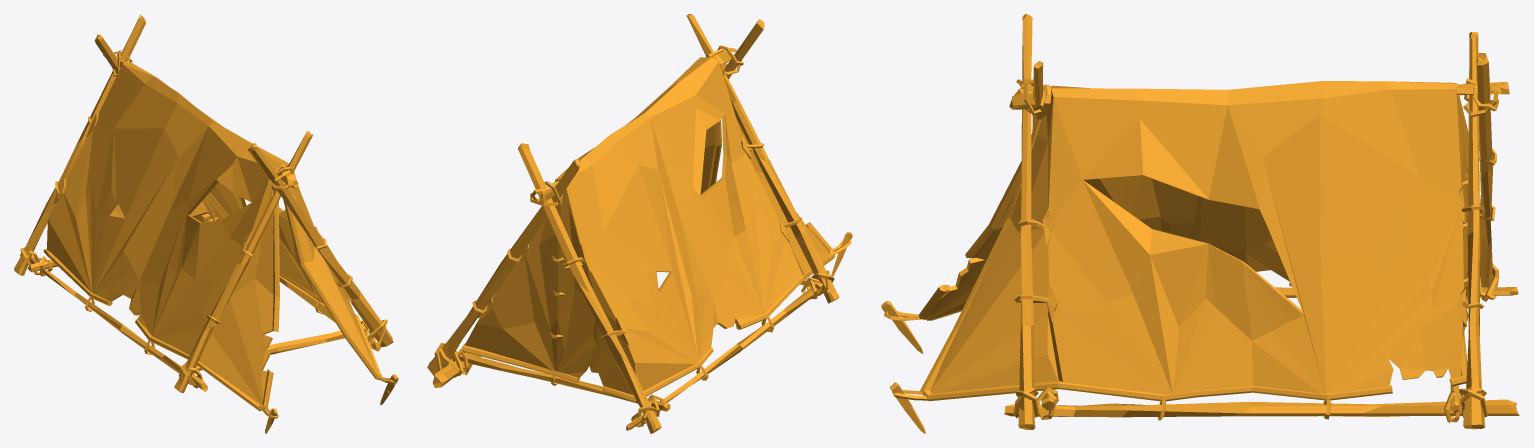
File: SM_Tent_Norseman_Plain_Damaged_Fantasy.fbx
3 renders of one model, left to right at view 1: azimuth 30°, elevation 25°; view 2: azimuth 150°, elevation 25°; view 3: azimuth 270°, elevation 25°, orthographic. The views are drawn at different scales.
Parts seen in each view (by area): view 1: tent-norseman-plain-damaged-fantasy; view 2: tent-norseman-plain-damaged-fantasy; view 3: tent-norseman-plain-damaged-fantasy.
Boxes of the visible parts, x1,y1,x2,y2 form: tent-norseman-plain-damaged-fantasy: (14,14,398,433); tent-norseman-plain-damaged-fantasy: (427,14,852,433); tent-norseman-plain-damaged-fantasy: (881,14,1519,433).
Bounding box in the file's own units: 2.12 × 2.46 × 3.96.
